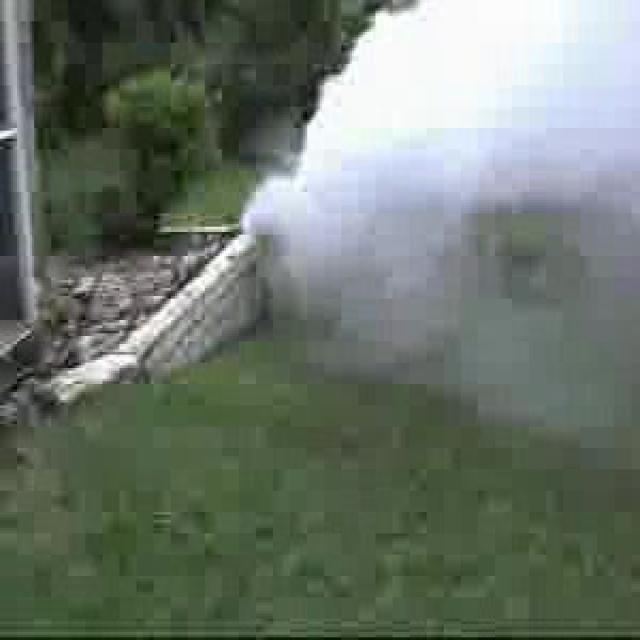Smoke: (241, 0, 640, 432)
